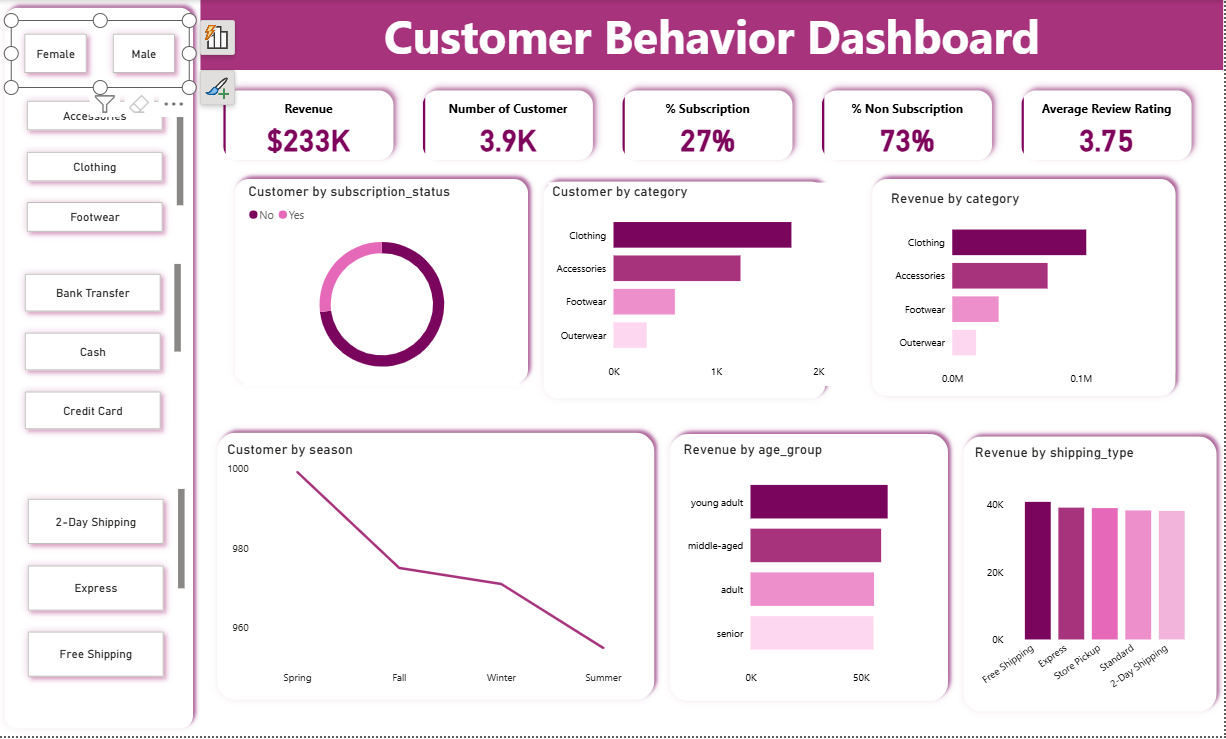

The page's visual inventory and layout, read from the dashboard file:
{"tool":"powerbi","page":{"name":"Customer Dashboard","canvas":[1500,900],"ordinal":0},"visuals":[{"type":"cardVisual","fields":{"Data":["Dax Measure.Revenue","Dax Measure.Number of Customer","Dax Measure.% Subscription","Dax Measure.% Non Subscription","Dax Measure.Average Review Rating"]},"box":[259.9,94.8,1219.8,117.7],"z":0},{"type":"shape","box":[281.3,209.4,377.5,269],"z":1000},{"type":"shape","box":[1060.5,210,389.8,284.3],"z":2000},{"type":"shape","box":[658.8,212.5,363.8,284.3],"z":3000},{"type":"clusteredBarChart","fields":{"Category":["customer_behavior customer.category"],"Y":["Dax Measure.Revenue"]},"box":[1088.3,232.3,334.8,249.2],"z":4000},{"type":"donutChart","title":"Customer by subscription_status","fields":{"Category":["customer_behavior customer.subscription_status"],"Y":["Dax Measure.Number of Customer"]},"box":[302.7,223.2,336.3,249.2],"z":5000},{"type":"clusteredBarChart","title":"Customer by category","fields":{"Category":["customer_behavior customer.category"],"Y":["Dax Measure.Number of Customer"]},"box":[674.1,223.2,348.5,249.2],"z":6000},{"type":"textbox","box":[12.2,0,1375,85.6],"z":7000},{"type":"shape","box":[12.2,0,1487.3,85.6],"z":8000},{"type":"textbox","box":[249.2,0,1250.3,85.6],"z":9000},{"type":"shape","box":[259.9,519.7,553.3,345.5],"z":10000},{"type":"lineChart","title":"Customer by season","fields":{"Category":["customer_behavior customer.season"],"Y":["Dax Measure.Number of Customer"]},"box":[276.7,539.6,519.7,307.2],"z":11000},{"type":"shape","box":[813.2,521.2,359.2,345.5],"z":12000},{"type":"clusteredBarChart","fields":{"Category":["customer_behavior customer.age_group"],"Y":["Dax Measure.Revenue"]},"box":[834.6,539.6,317.9,307.2],"z":13000},{"type":"shape","box":[0,0,249.2,900.3],"z":14000},{"type":"advancedSlicerVisual","fields":{"Values":["customer_behavior customer.category"]},"box":[19.9,107,214,194.1],"z":16000},{"type":"advancedSlicerVisual","fields":{"Values":["customer_behavior customer.payment_method"]},"box":[16.8,317.9,214,224.7],"z":17000},{"type":"advancedSlicerVisual","fields":{"Values":["customer_behavior customer.shipping_type"]},"box":[12.2,576.3,214,253.7],"z":17001},{"type":"advancedSlicerVisual","fields":{"Values":["customer_behavior customer.gender"]},"box":[16.8,24.5,218.6,82.5],"z":17002},{"type":"shape","box":[1171.7,525,328.3,355],"z":17003},{"type":"clusteredColumnChart","fields":{"Category":["customer_behavior customer.shipping_type"],"Y":["Dax Measure.Revenue"]},"box":[1190.7,542.6,284.3,322.5],"z":17004}]}

Visuals, with their boxes in screenshot pixels (x1, y1, x2, y2):
cardVisual - Dax Measure.Revenue x Dax Measure.Number of Customer: [185, 76, 1205, 174]
shape: [203, 172, 519, 397]
shape: [854, 172, 1180, 410]
shape: [519, 174, 823, 412]
clusteredBarChart - customer_behavior customer.category x Dax Measure.Revenue: [878, 191, 1157, 399]
"Customer by subscription_status" donutChart: [221, 183, 502, 392]
"Customer by category" clusteredBarChart: [531, 183, 823, 392]
textbox: [0, 0, 1127, 68]
shape: [0, 0, 1221, 68]
textbox: [176, 0, 1221, 68]
shape: [185, 431, 648, 720]
"Customer by season" lineChart: [199, 448, 634, 704]
shape: [648, 432, 948, 721]
clusteredBarChart - customer_behavior customer.age_group x Dax Measure.Revenue: [666, 448, 931, 704]
shape: [0, 0, 176, 738]
advancedSlicerVisual - customer_behavior customer.category: [0, 86, 164, 248]
advancedSlicerVisual - customer_behavior customer.payment_method: [0, 262, 161, 450]
advancedSlicerVisual - customer_behavior customer.shipping_type: [0, 478, 157, 690]
advancedSlicerVisual - customer_behavior customer.gender: [0, 17, 165, 86]
shape: [947, 436, 1222, 732]
clusteredColumnChart - customer_behavior customer.shipping_type x Dax Measure.Revenue: [963, 450, 1201, 720]
